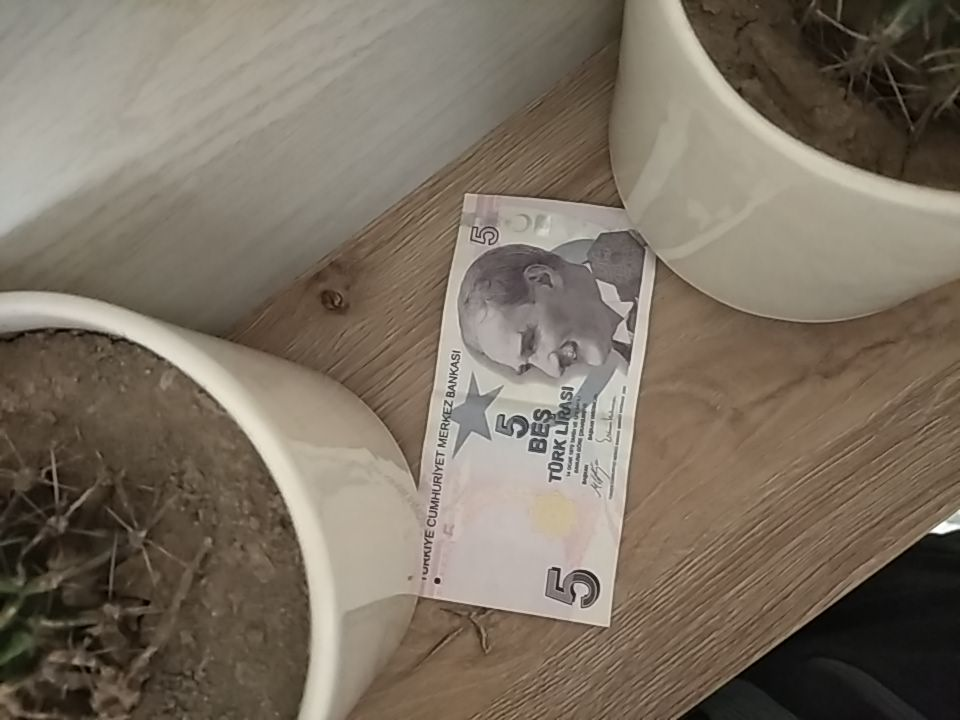5TL: (401, 193, 658, 630)
